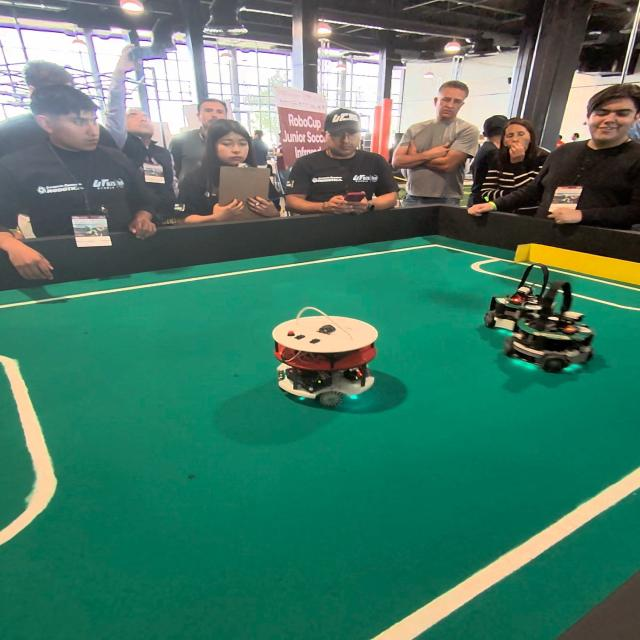Robot: (272, 300, 387, 416), (498, 270, 598, 378), (477, 268, 563, 336)
